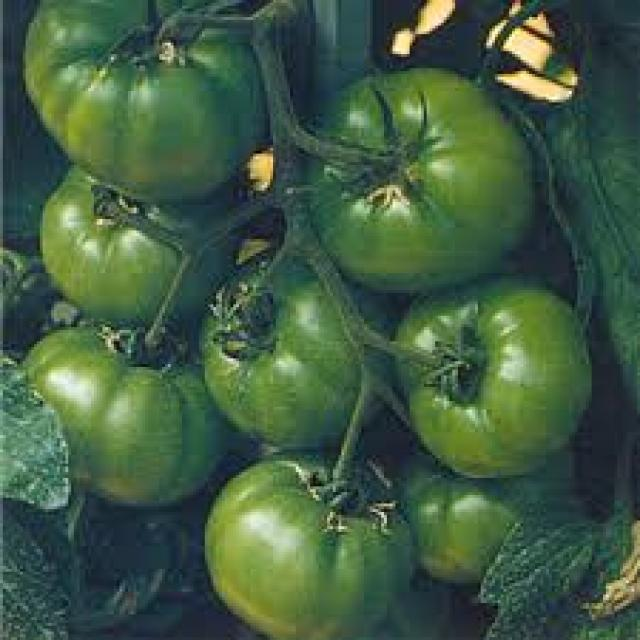organic waste: (20, 0, 284, 199), (302, 63, 534, 284), (199, 444, 441, 637), (521, 3, 637, 401), (202, 236, 404, 458), (389, 276, 592, 483), (20, 316, 230, 506), (43, 160, 250, 322), (395, 436, 586, 578), (469, 504, 637, 637)
